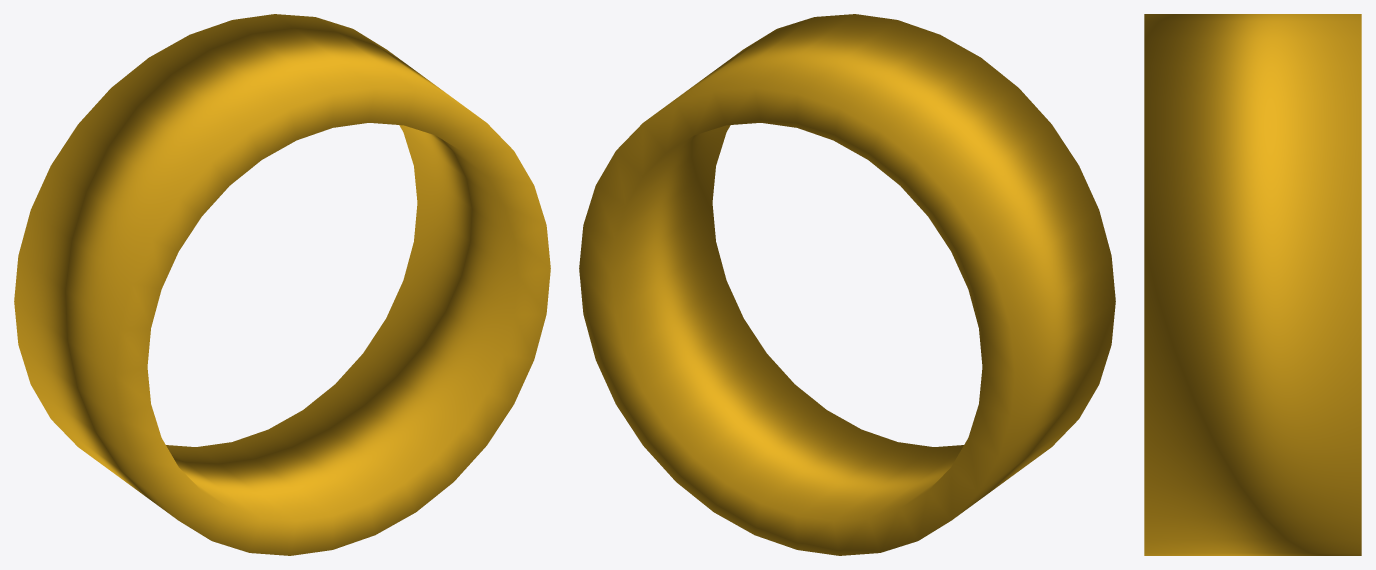
The model's file is Wedding Ring.fbx.
3 renders of one model, left to right at view 1: azimuth 30°, elevation 25°; view 2: azimuth 150°, elevation 25°; view 3: azimuth 270°, elevation 25°, orthographic. The views are drawn at different scales.
Visible parts, largest first — view 1: Cylinder; view 2: Cylinder; view 3: Cylinder.
Part boxes in pixels (left/top/right/bottom): Cylinder: left=14, top=14, right=550, bottom=555; Cylinder: left=579, top=14, right=1115, bottom=555; Cylinder: left=1144, top=14, right=1361, bottom=555.
Bounding box in the file's own units: 2.5 × 2.5 × 1.
